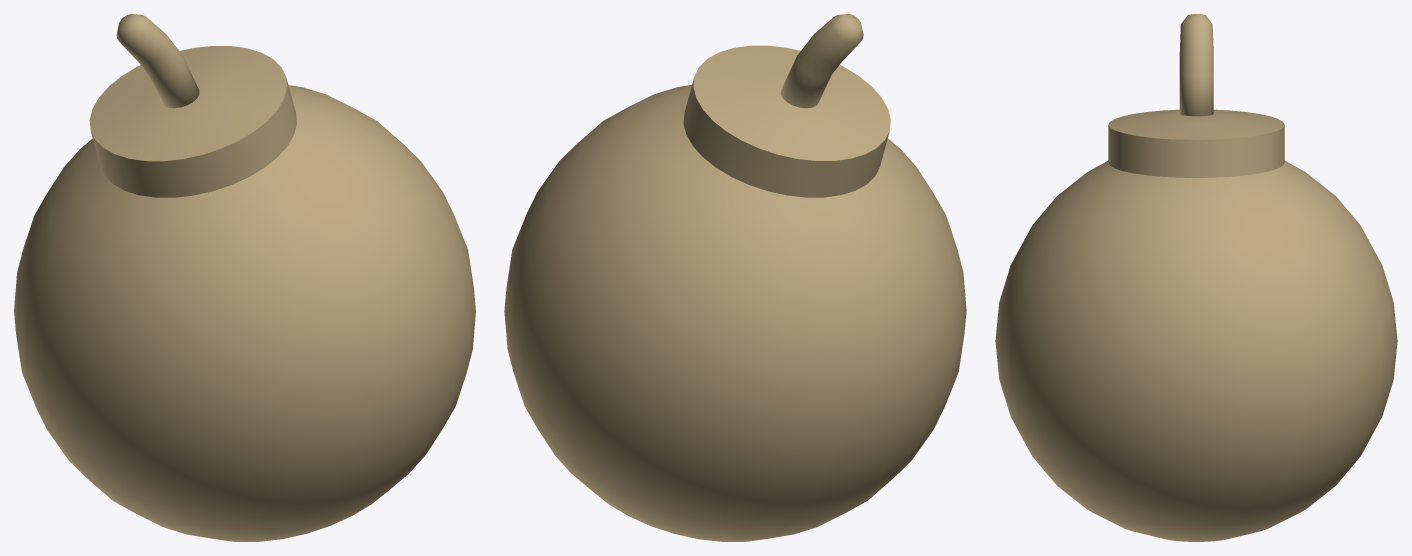
File: Bomb_Cartoon_polyart_V02 1.fbx
3 renders of one model, left to right at view 1: azimuth 30°, elevation 25°; view 2: azimuth 150°, elevation 25°; view 3: azimuth 270°, elevation 25°, orthographic. The views are drawn at different scales.
Parts seen in each view (by area): view 1: Sphere001; view 2: Sphere001; view 3: Sphere001.
Boxes of the visible parts, <box> form: Sphere001: <box>14,14,475,541</box>; Sphere001: <box>504,14,966,541</box>; Sphere001: <box>995,14,1397,541</box>.
Bounding box in the file's own units: 3.25 × 4.12 × 3.25.
